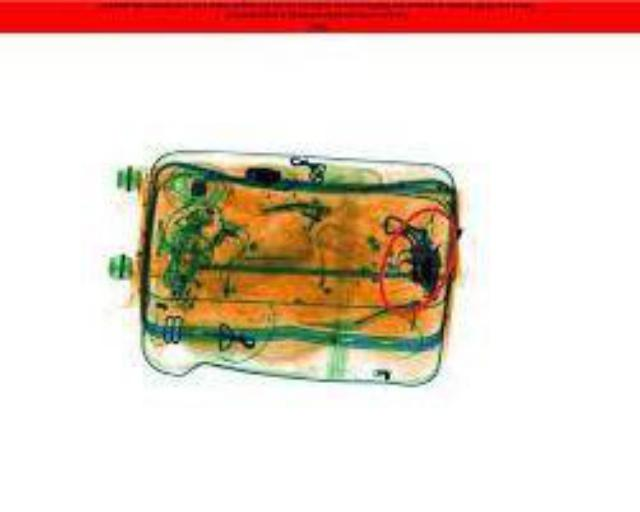Gun: (376, 211, 436, 295)
